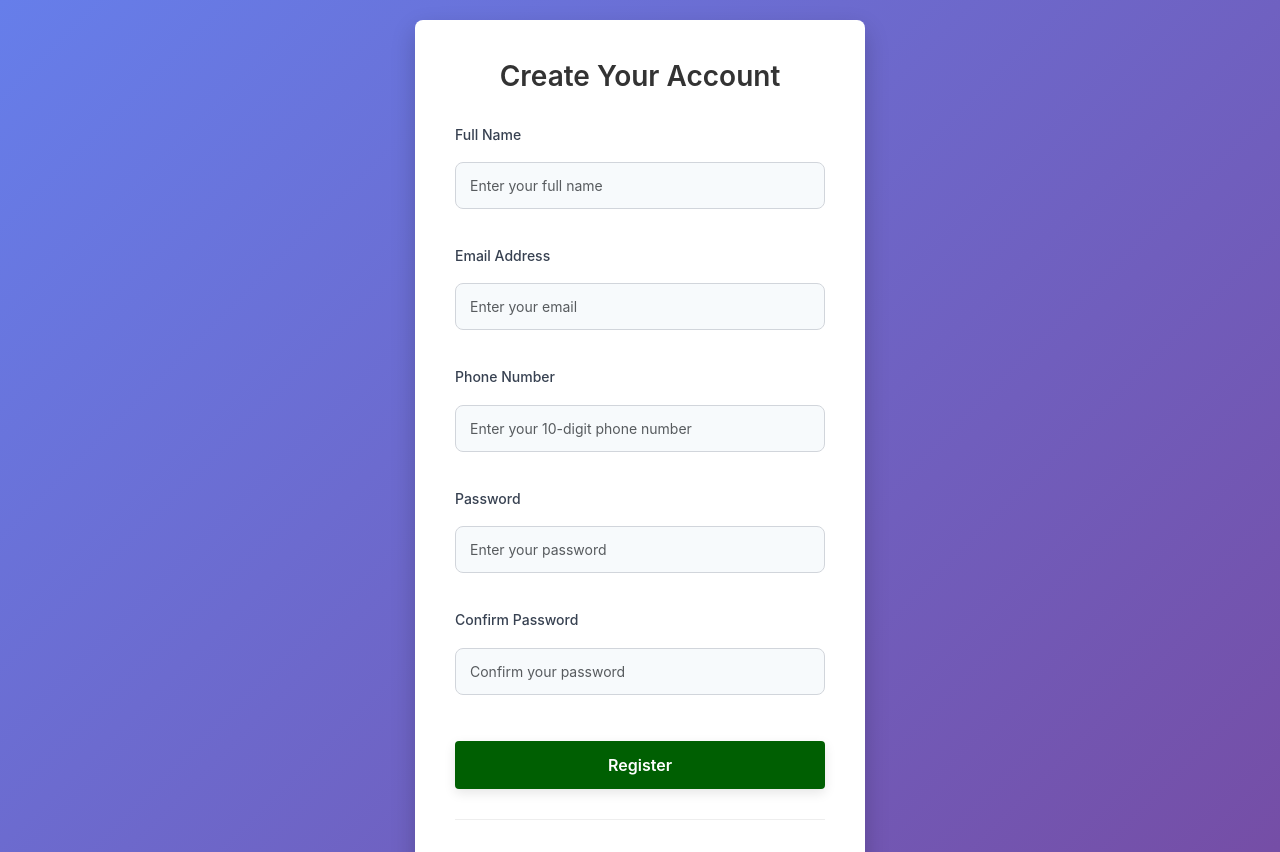
Test case: Register Component › validates email format
Type "Test User" into the field labelled "Full Name".
click(640, 186); type("Test User")  # box [455, 162, 825, 209]
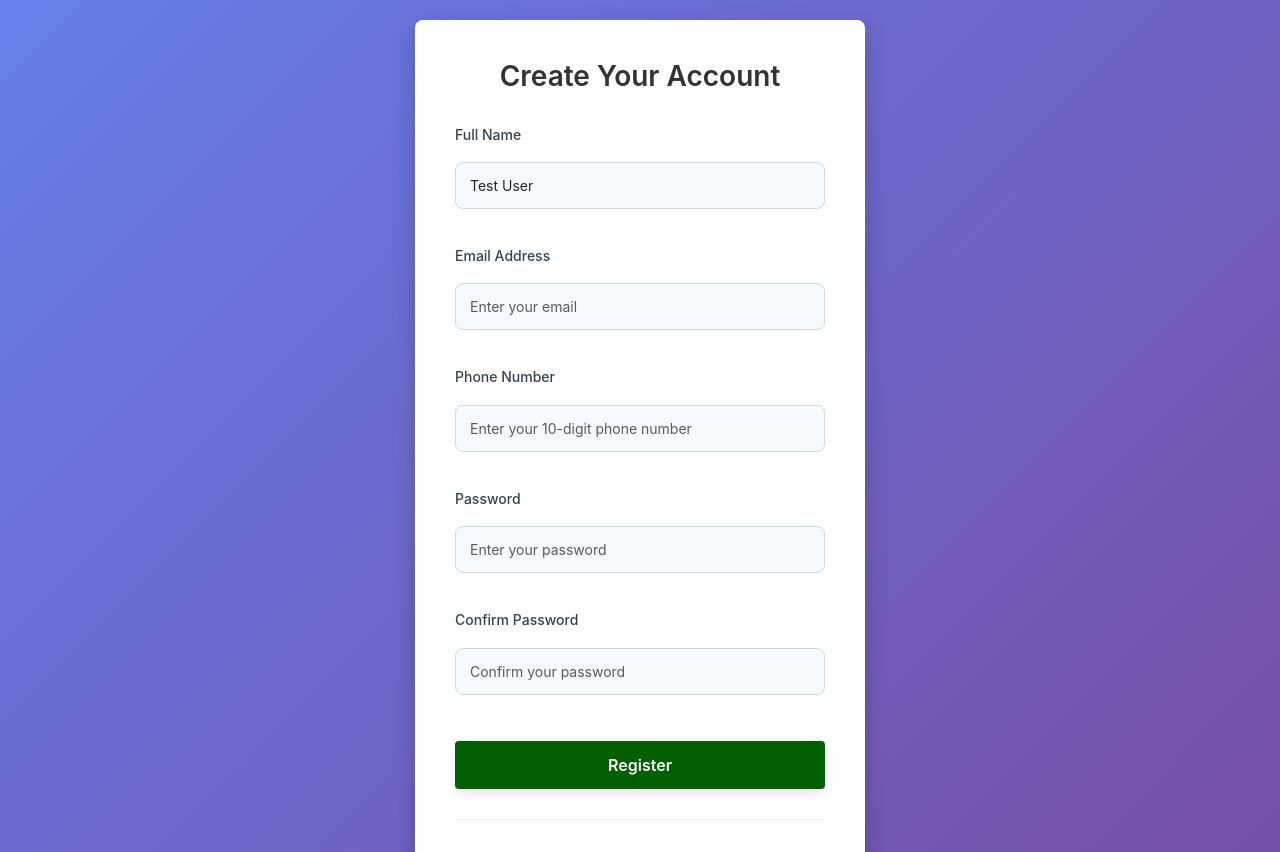
Type "bad-email" into the field labelled "Email Address".
click(640, 307); type("bad-email")  # box [455, 283, 825, 330]
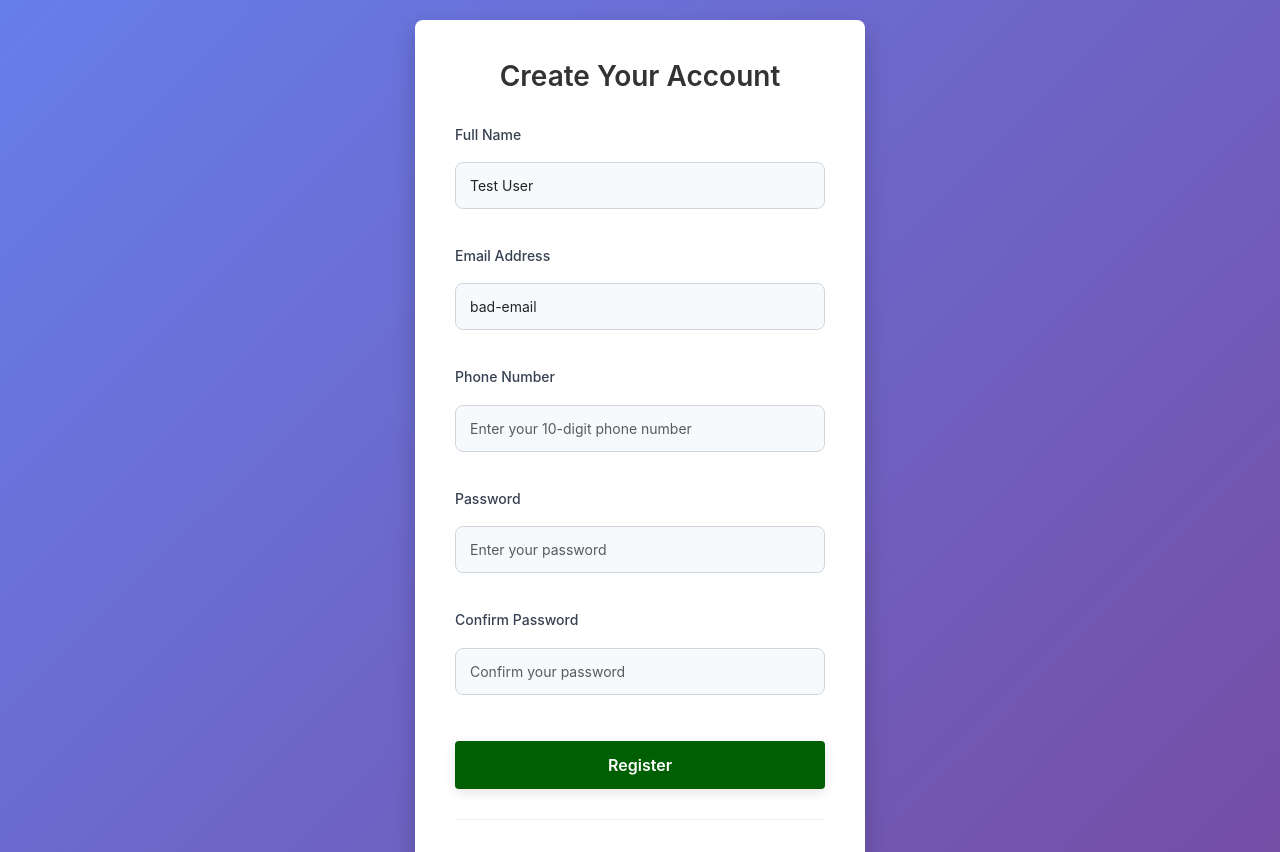
Click the button "Register".
click(640, 764)  # box [455, 740, 825, 788]
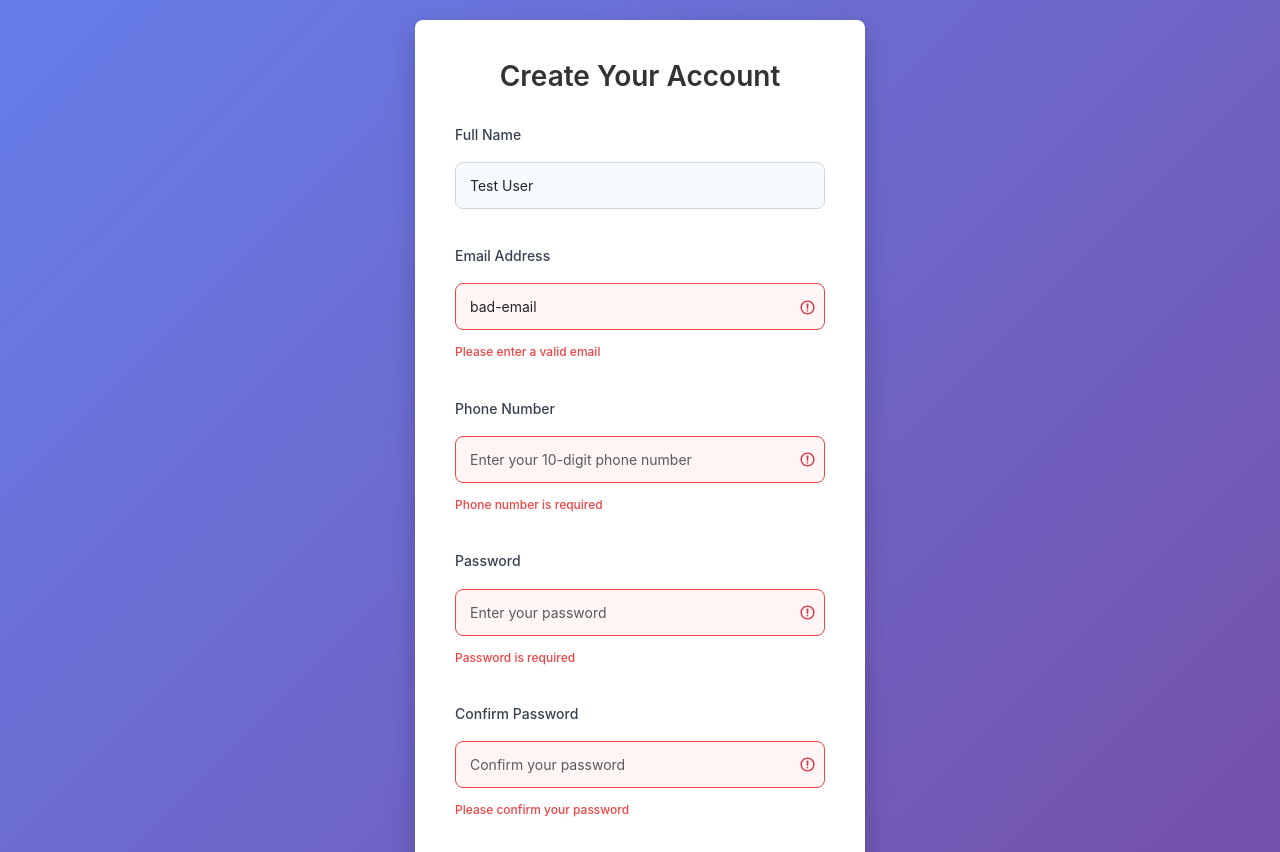
Check: the text "Please enter a valid email" is shown, box [455, 344, 600, 359]
